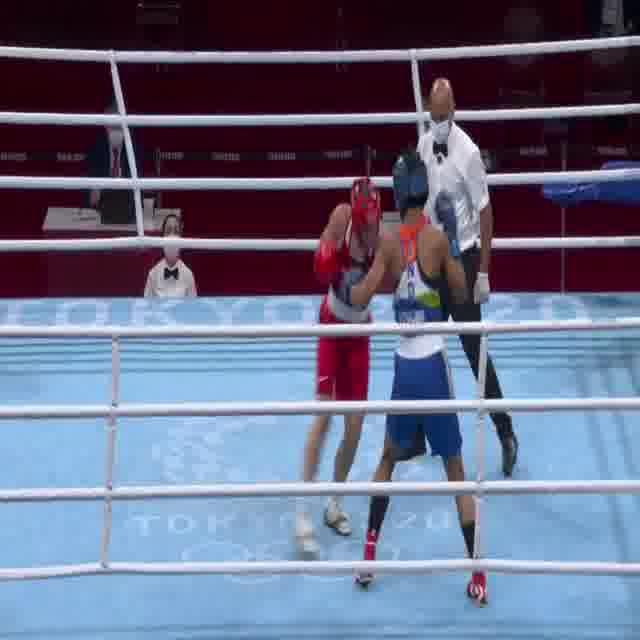blue-player: (333, 147, 496, 607)
red-player: (290, 173, 430, 562)
referee: (394, 72, 522, 483)
